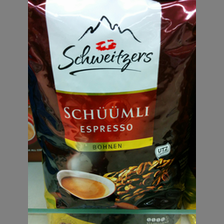coffee: (29, 1, 195, 222)
